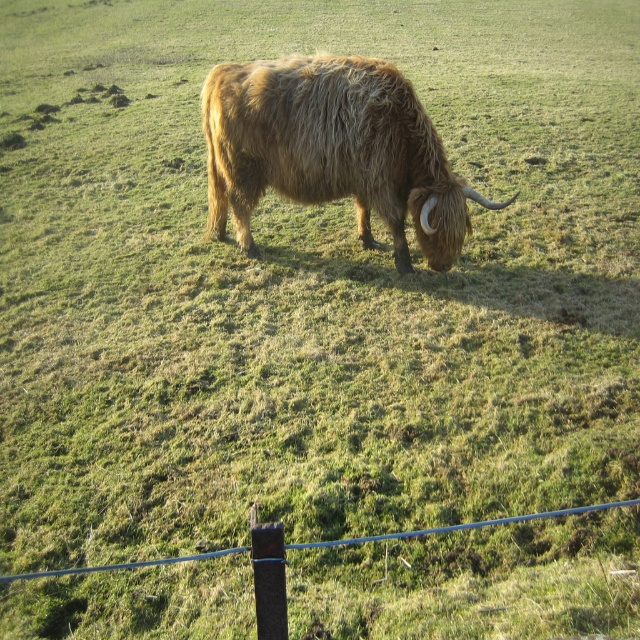Cattle: (205, 49, 522, 279)
